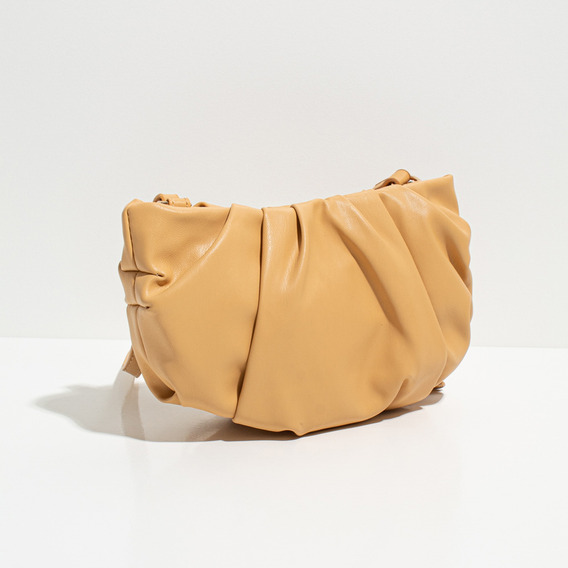cartera: (120, 167, 474, 437)
